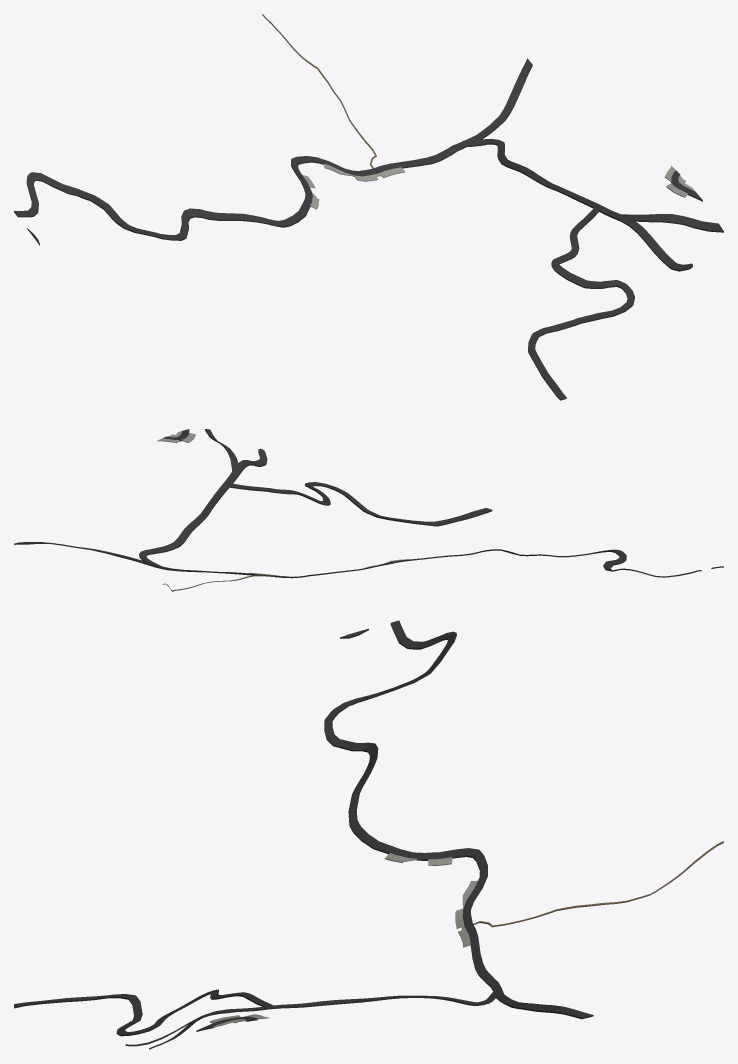
The model's file is 16-54732-29723.2fab67a9.glb.
3 views of the same model, one above another, from view 1: azimuth 30°, elevation 25°; view 2: azimuth 150°, elevation 25°; view 3: azimuth 270°, elevation 25° (orthographic). The views are drawn at different scales.
Bounding box in the file's own units: 586 × 156 × 532.
